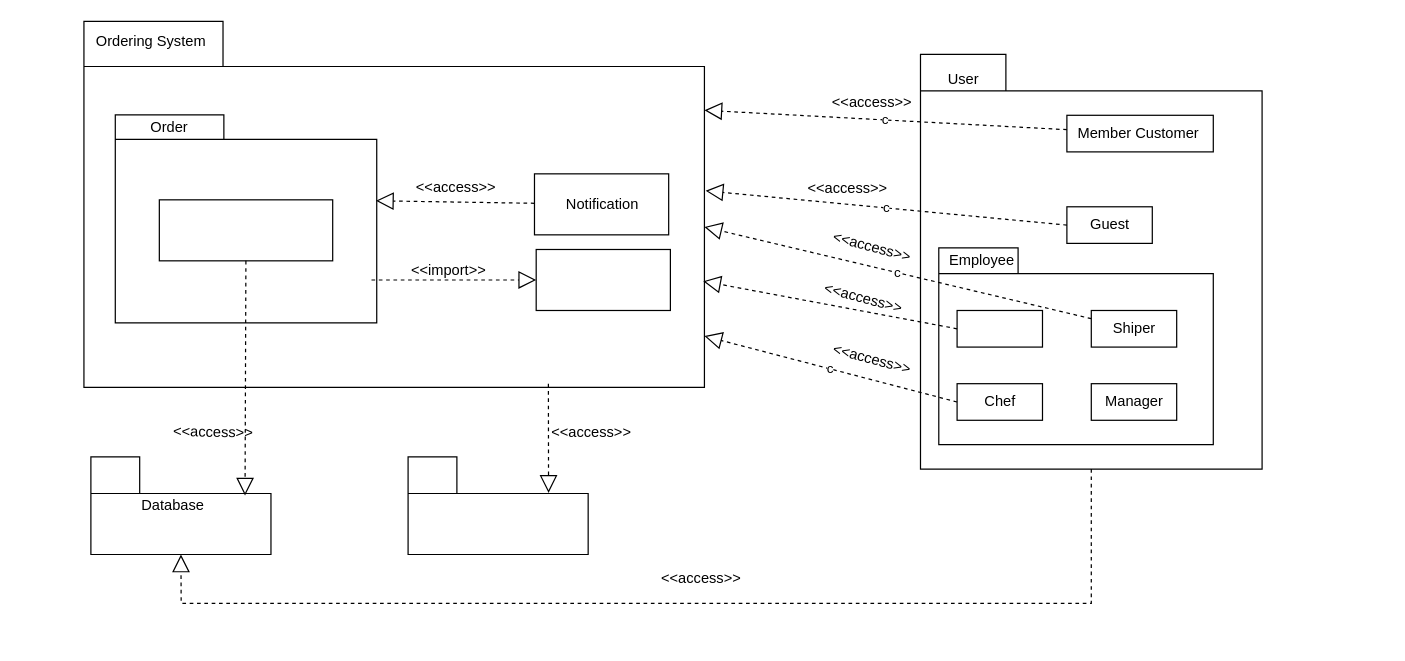
The diagram is 1405 pixels wide and 661 high, and some of its shapes have lost their labels. Here are the shapes that lost their labels. From the top down, the centre of each, then its label:
At pixel 245 230: "ChoosenMenuProduct".
At pixel 602 279: "Customer Invoice".
At pixel 999 328: "Clerk".
At pixel 497 505: "UI Package".
